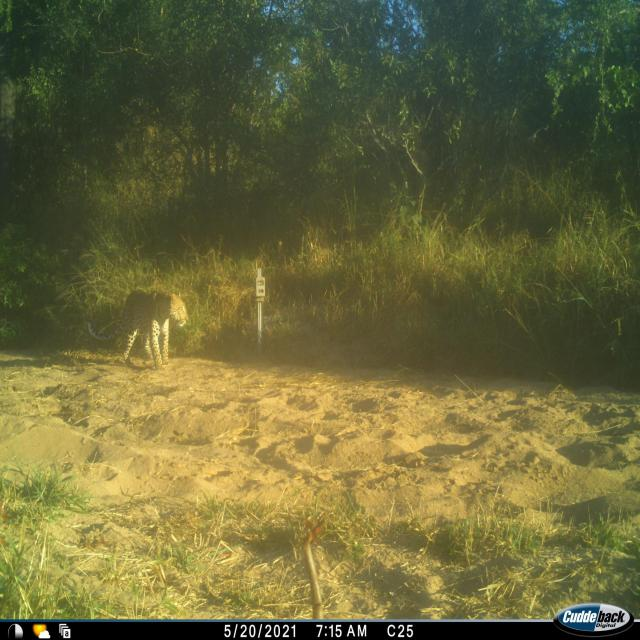Leopard: (90, 294, 191, 378)
